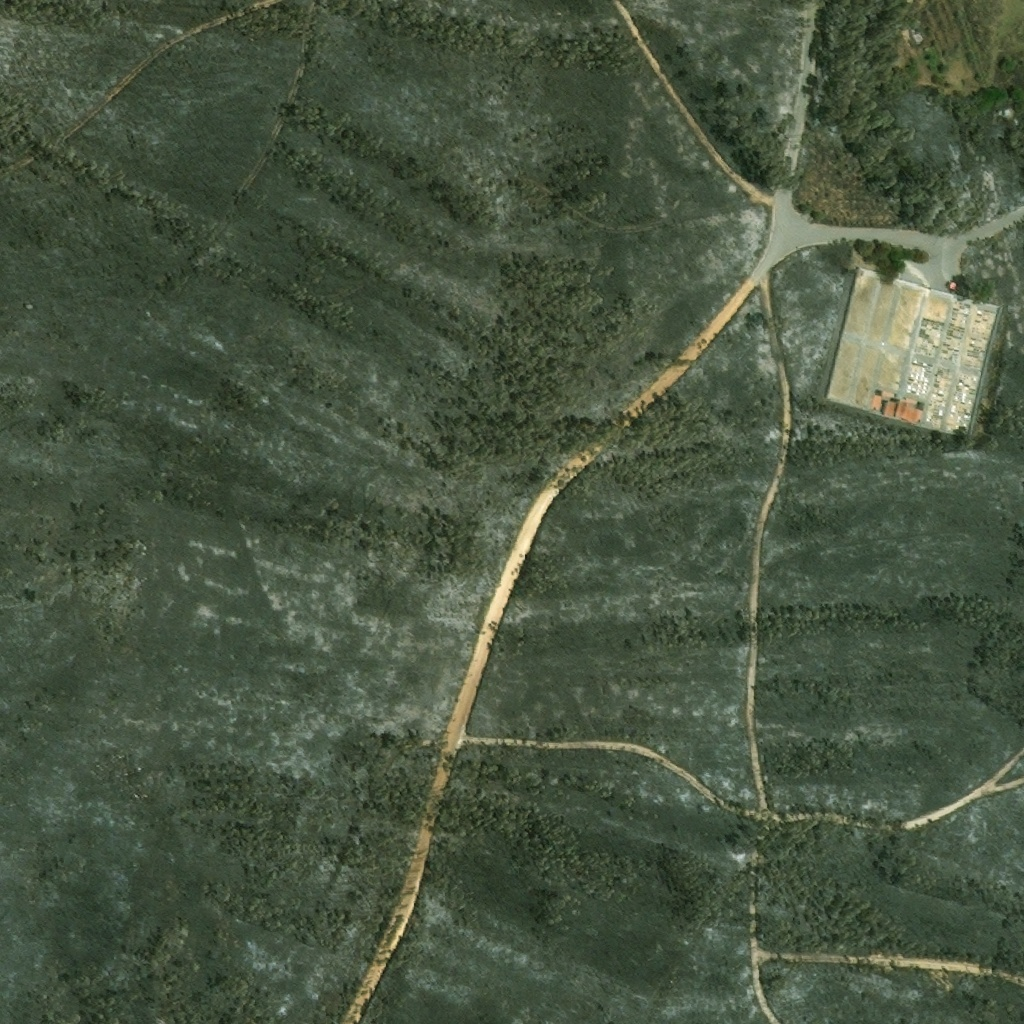0 no-damage: (871, 393, 923, 423)
